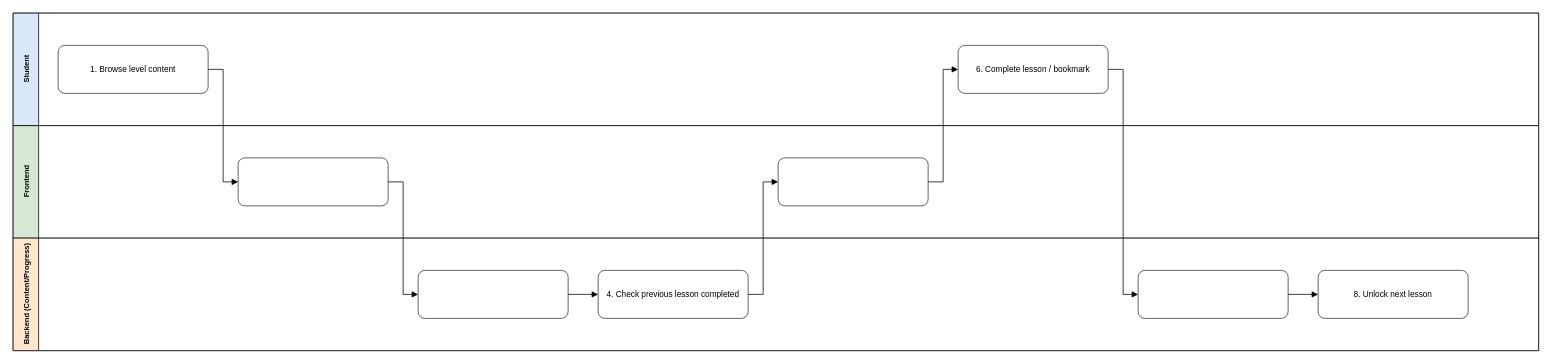
Some shapes in this 1552 by 364 pixel diagram are drawn without their labels. Here are the shapes that lost their labels. From the top down, the centre of each, then its label:
At (x=312, y=181): "2. GET /api/lessons?level=".
At (x=852, y=181): "5. Display content".
At (x=492, y=294): "3. Check subscription & JLPT level".
At (x=1212, y=294): "7. Update progress (increase only)".
